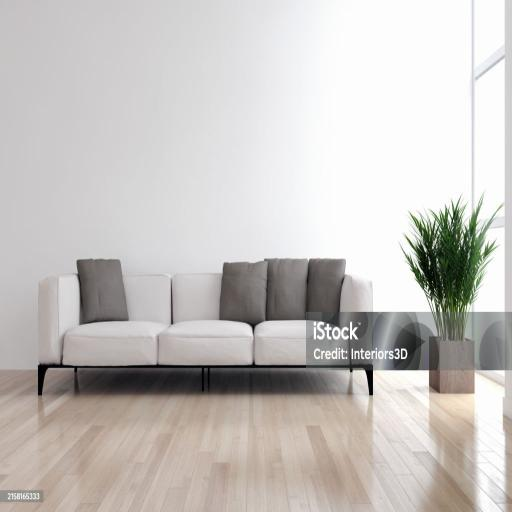back_cushion: (76, 259, 345, 325)
left_arm: (340, 274, 372, 364)
legs: (38, 365, 58, 395), (366, 369, 372, 394), (202, 367, 204, 391), (208, 368, 210, 388)
right_arm: (38, 275, 80, 364)
seat_cushion: (63, 320, 362, 365)
stallion-sofa: (38, 259, 372, 394)
